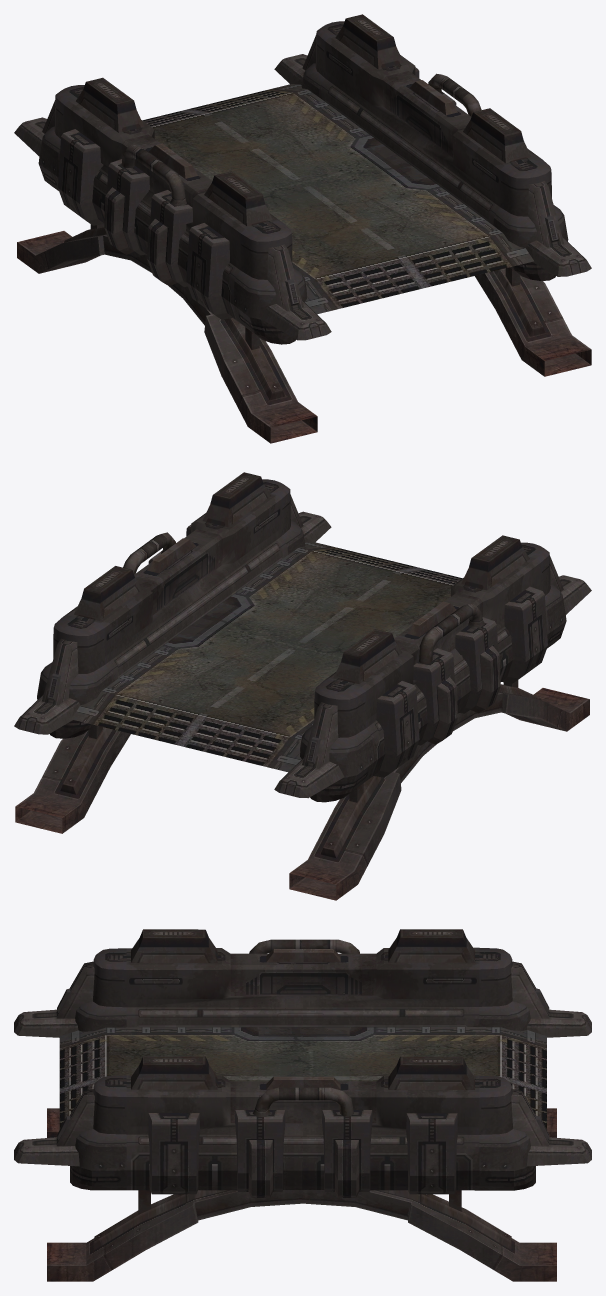
The model's file is marsarabridge.fbx.
3 renders of one model, top to bottom at view 1: azimuth 30°, elevation 25°; view 2: azimuth 150°, elevation 25°; view 3: azimuth 270°, elevation 25°, orthographic.
Parts seen in each view (by area): view 1: Geoset_0; view 2: Geoset_0; view 3: Geoset_0.
Part boxes in pixels (x1,y1,x2,y2): Geoset_0: (14,14,591,443); Geoset_0: (14,472,591,900); Geoset_0: (14,929,591,1281).
Bounding box in the file's own units: 6.35 × 3.6 × 9.16.
Materials: 1 (1 with a texture image).
